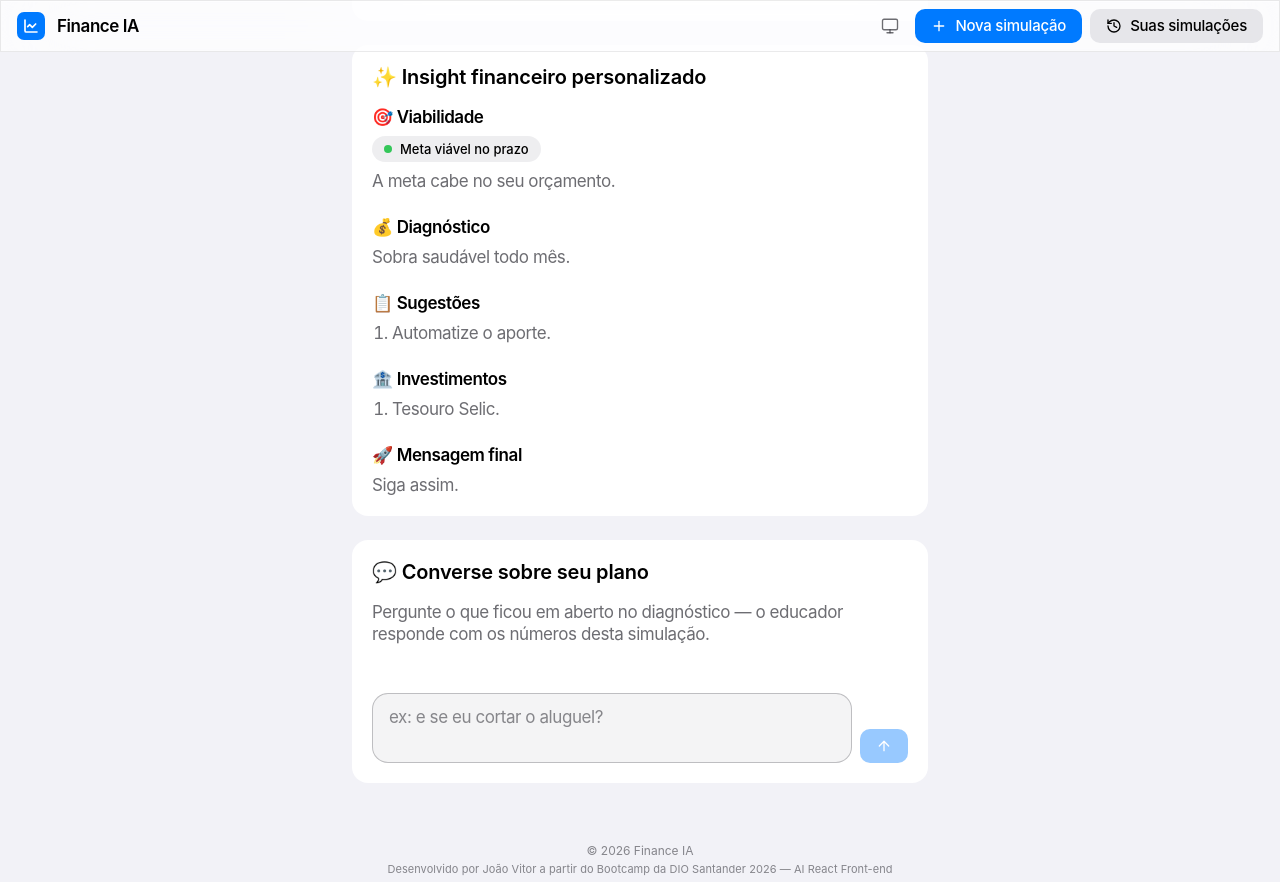
histórico e navegação › AC-037: Voltar do histórico devolve a pessoa à tela em que estava @spec:AC-037
This screenshot has width=1280, height=882.
(page scrolled)
Note: Cheguei ao histórico a partir do resultado, pelo botão do cabeçalho.
Click the button "Suas simulações": click(1177, 26) [1090,9,1263,43]
(page scrolled)
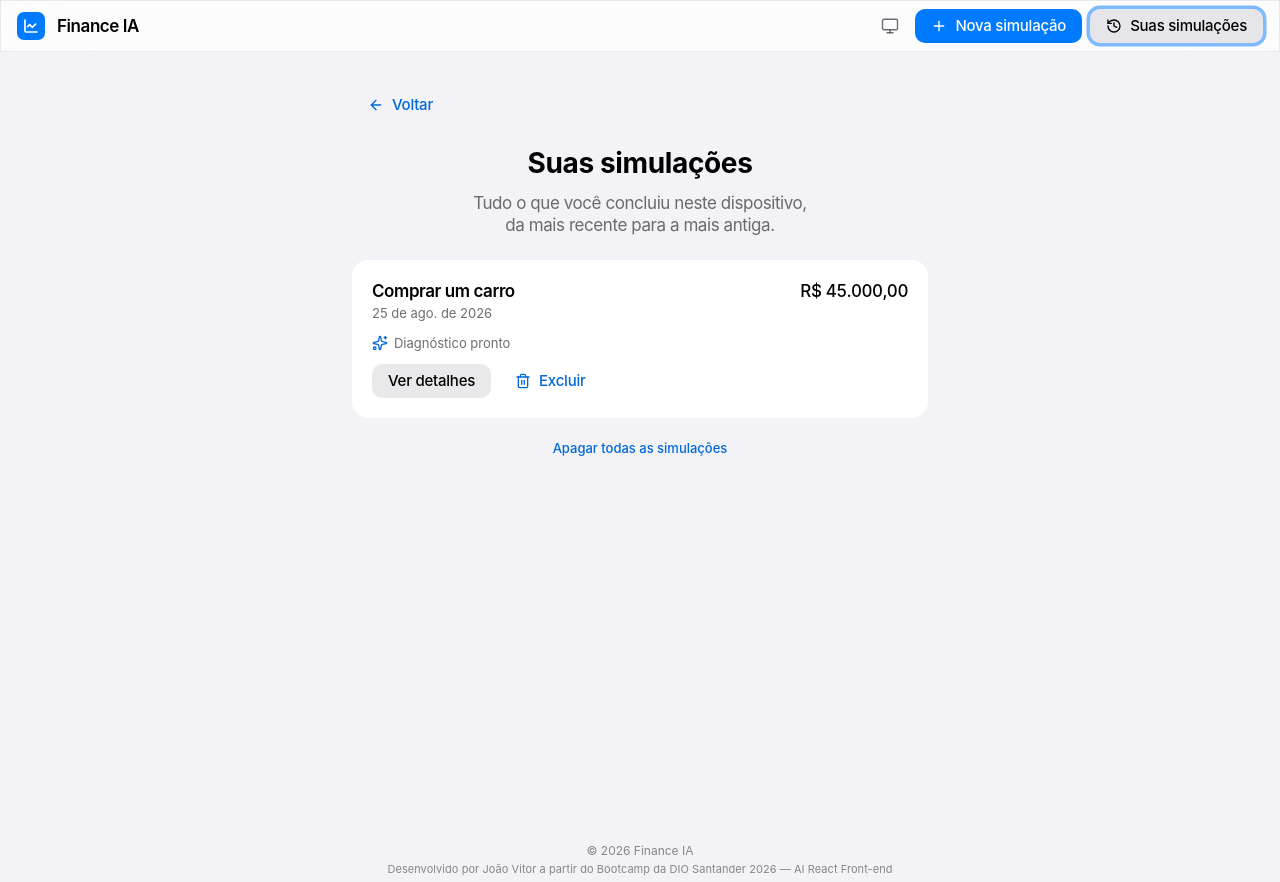
Click the button "Voltar": click(400, 105) [352,88,449,122]
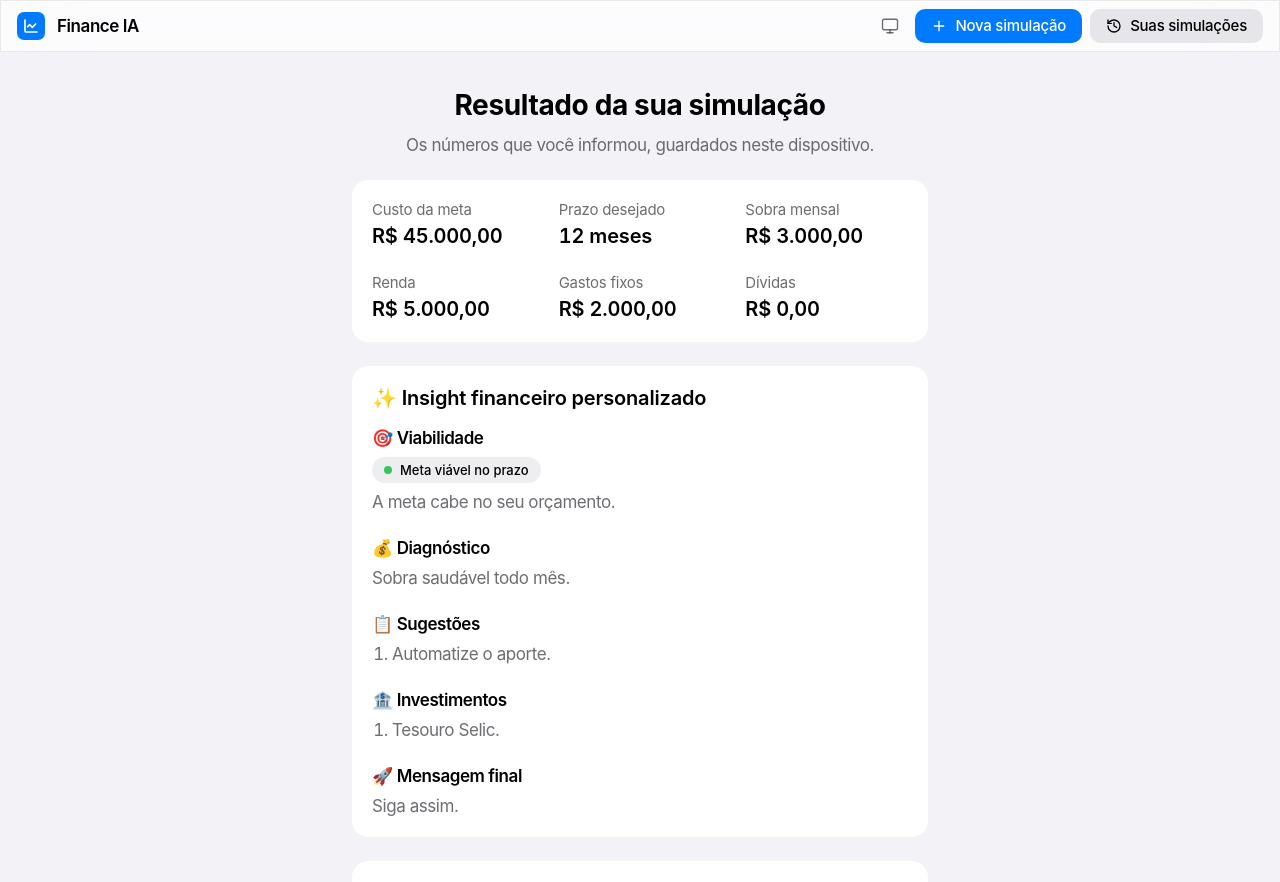
Check: the heading "Resultado da sua simulação" is shown, box [454,88,826,122]
